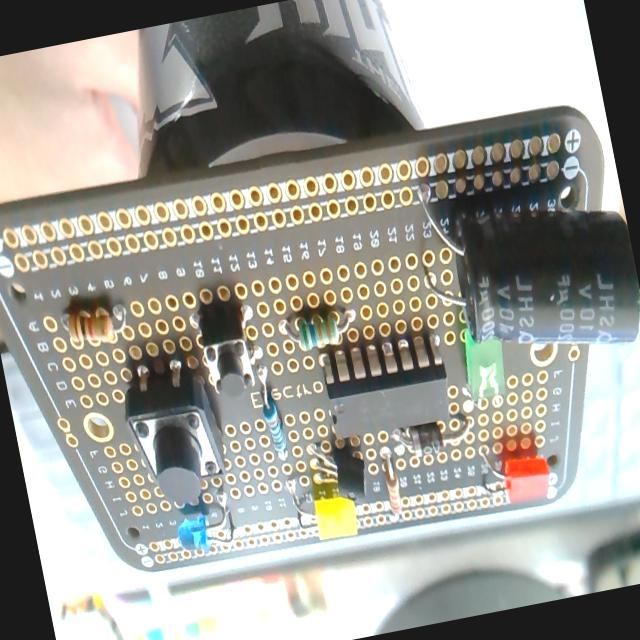Electrolytic capacitor: (400, 134, 640, 383)
IC: (314, 324, 458, 444)
diode: (388, 409, 486, 463)
led: (472, 444, 562, 514), (170, 491, 246, 565), (285, 489, 366, 548), (451, 329, 511, 406)
resistor: (46, 291, 138, 355), (274, 297, 368, 355), (253, 360, 303, 468), (376, 448, 408, 528)
switch: (126, 369, 226, 500), (196, 298, 268, 399)
transistor: (304, 438, 374, 516)
